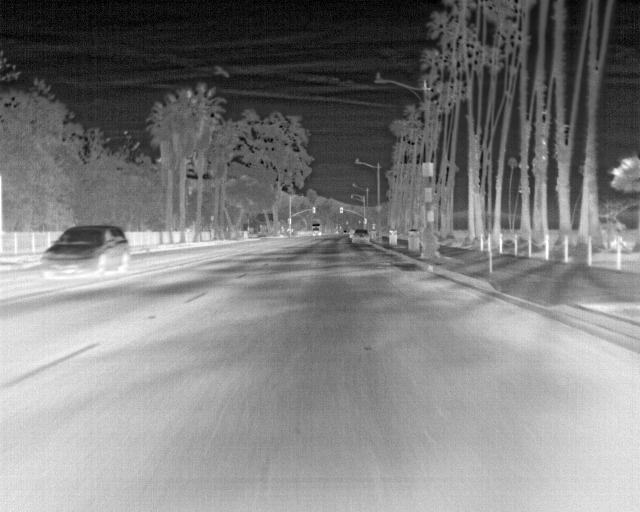car: (41, 224, 129, 282), (351, 227, 369, 245), (309, 220, 322, 235)
